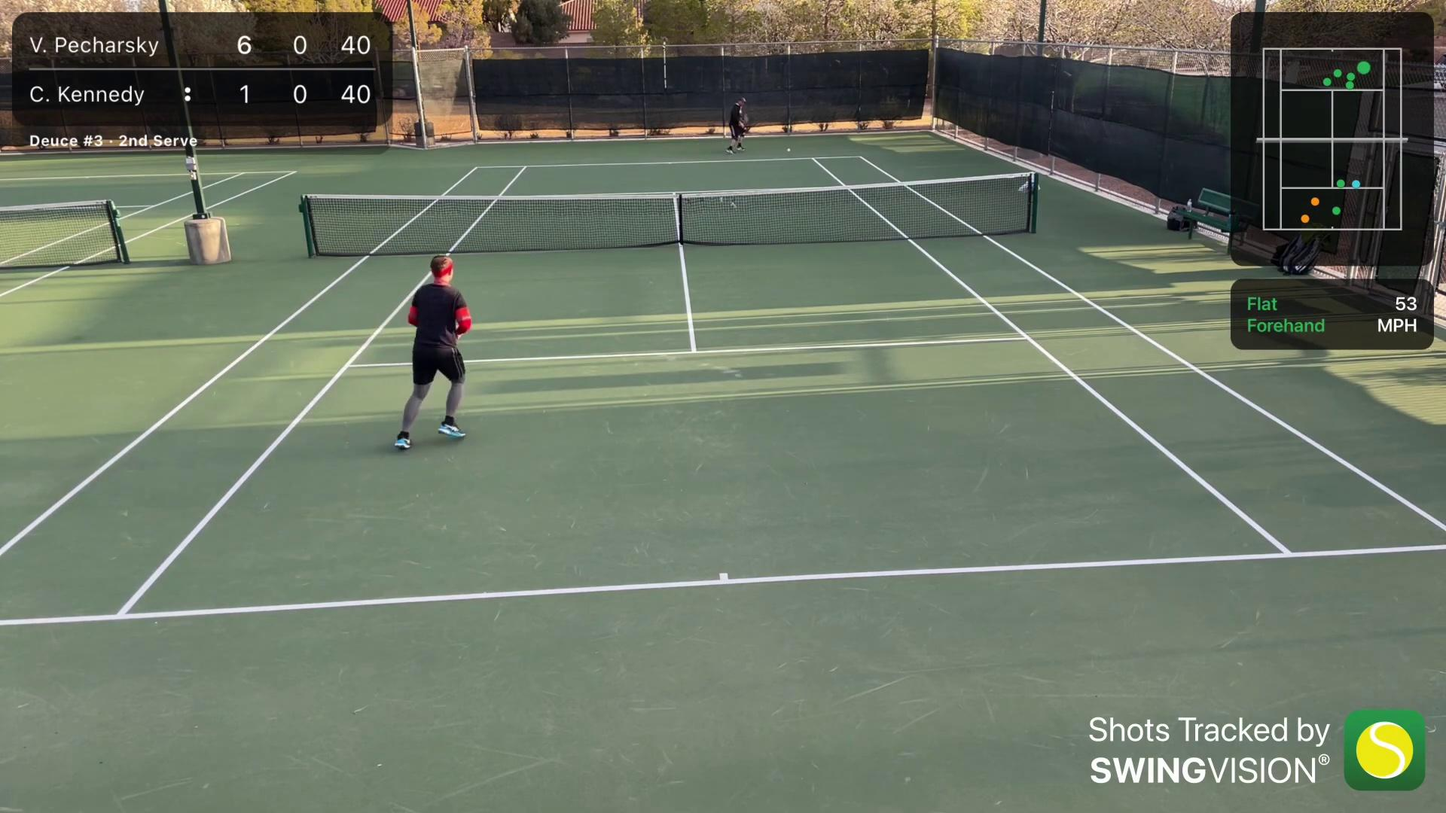ball: (785, 147, 792, 154)
